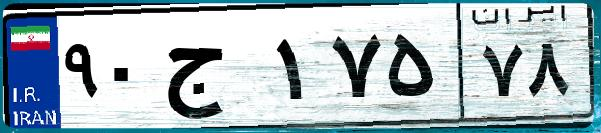0: (110, 28, 158, 98)
1: (270, 28, 330, 110)
5: (385, 28, 445, 110)
7: (330, 28, 385, 110), (475, 38, 525, 113)
8: (525, 38, 570, 115)
9: (57, 26, 110, 100)
ج: (158, 20, 270, 120)
